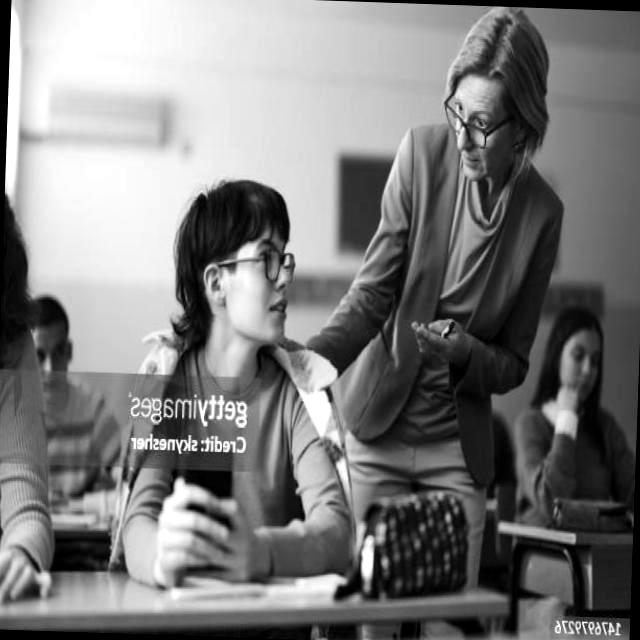phone: (180, 447, 235, 572), (441, 318, 456, 337)
